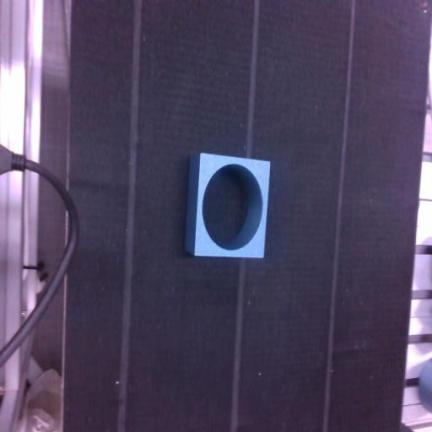square: (186, 154, 269, 258)
